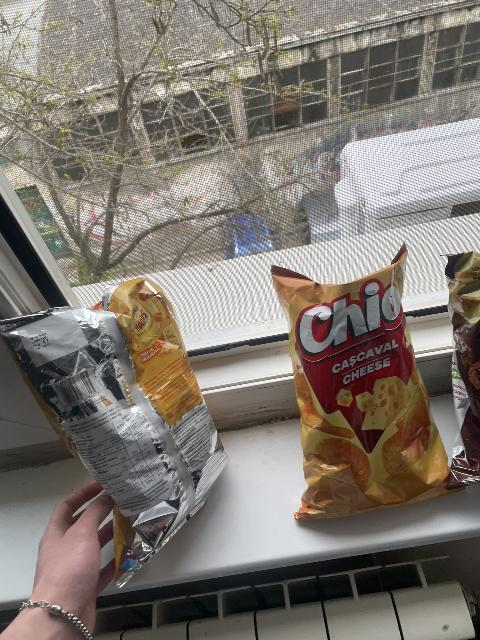Chio Cascaval 125g: (272, 234, 457, 515)
Chio Hula Hoops Cheese 70g: (0, 270, 228, 586)
Lays Beef Grilled Ribs 125g: (434, 248, 480, 492)
